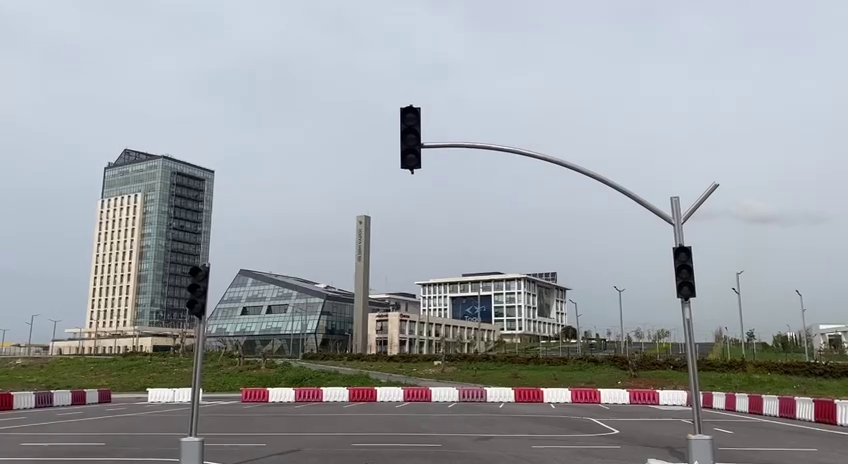trafficLight: (394, 99, 427, 176), (669, 240, 701, 302), (184, 260, 210, 323)
